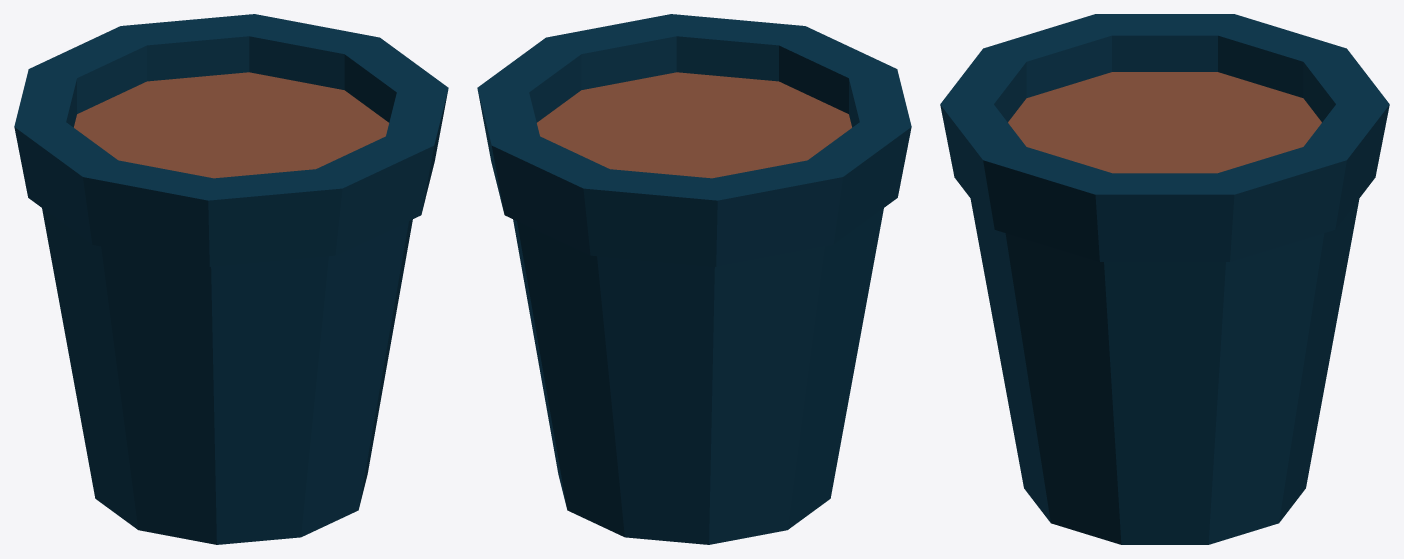
The model's file is Pot_2_mat.fbx.
3 renders of one model, left to right at view 1: azimuth 30°, elevation 25°; view 2: azimuth 150°, elevation 25°; view 3: azimuth 270°, elevation 25°, orthographic.
Visible parts, largest first — view 1: Pot_2_mat; view 2: Pot_2_mat; view 3: Pot_2_mat.
Part boxes in pixels (x1,y1,x2,y2): Pot_2_mat: [14, 14, 448, 544]; Pot_2_mat: [477, 14, 911, 544]; Pot_2_mat: [940, 14, 1389, 544].
Bounding box in the file's own units: 121 × 120 × 128.
